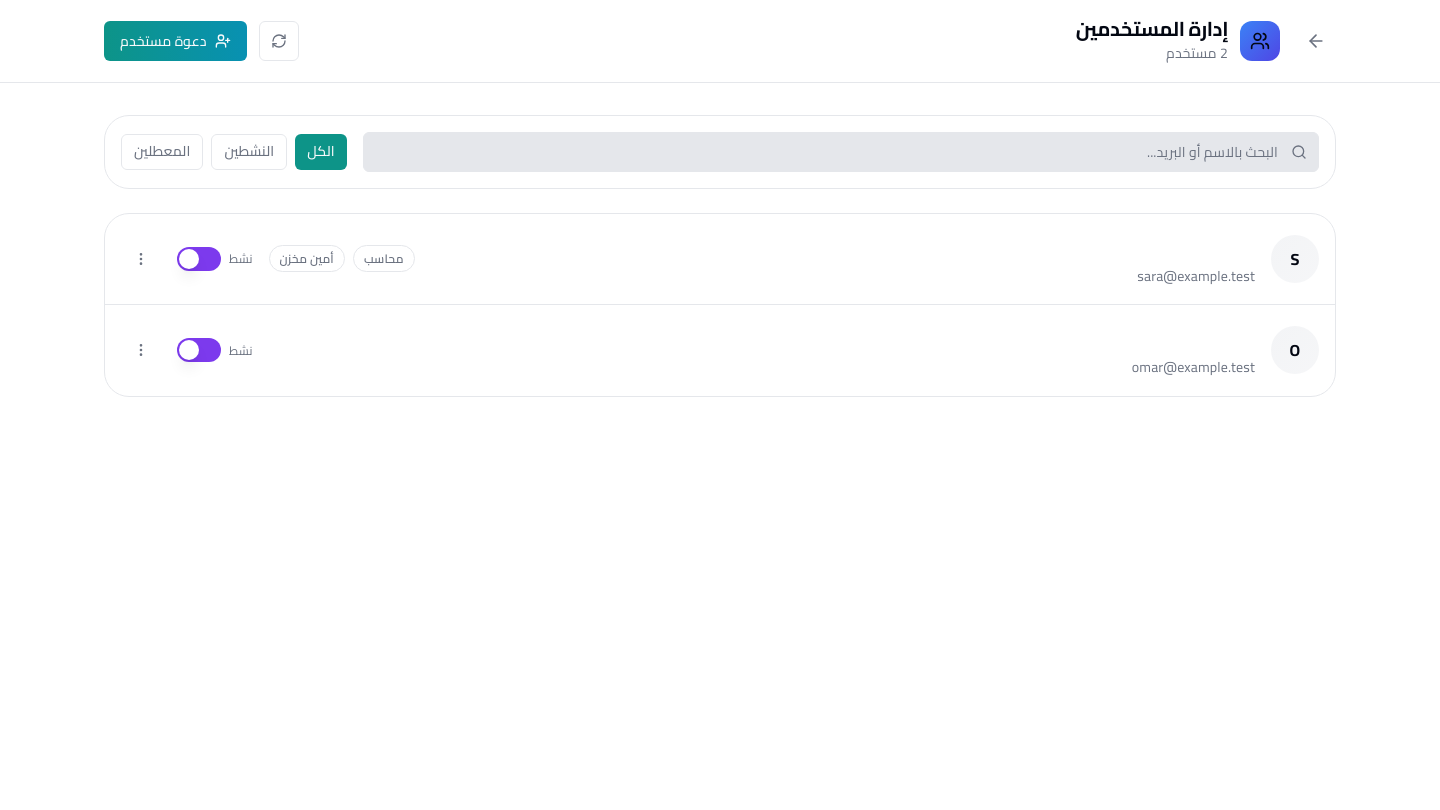
Test case: controls — successful reads keep full-set replacement semantics › keeps assignments across two saves when the role catalogue read fails
Click the button named "إجراءات المستخدم" in the row of "أمين مخزن": point(141, 259) [121,239,161,279]
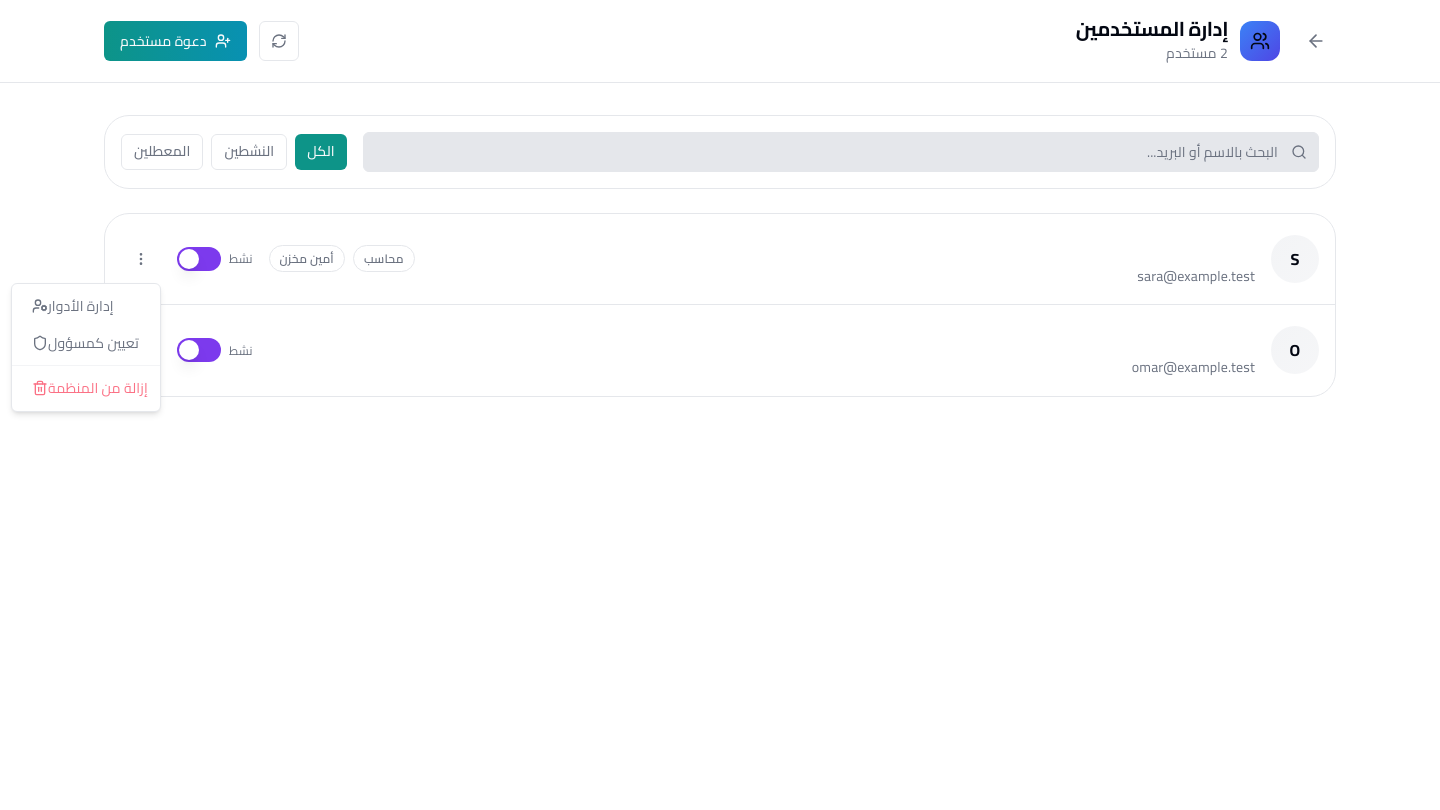
Click the menu item "إدارة الأدوار": point(73, 306) [32,293,114,319]
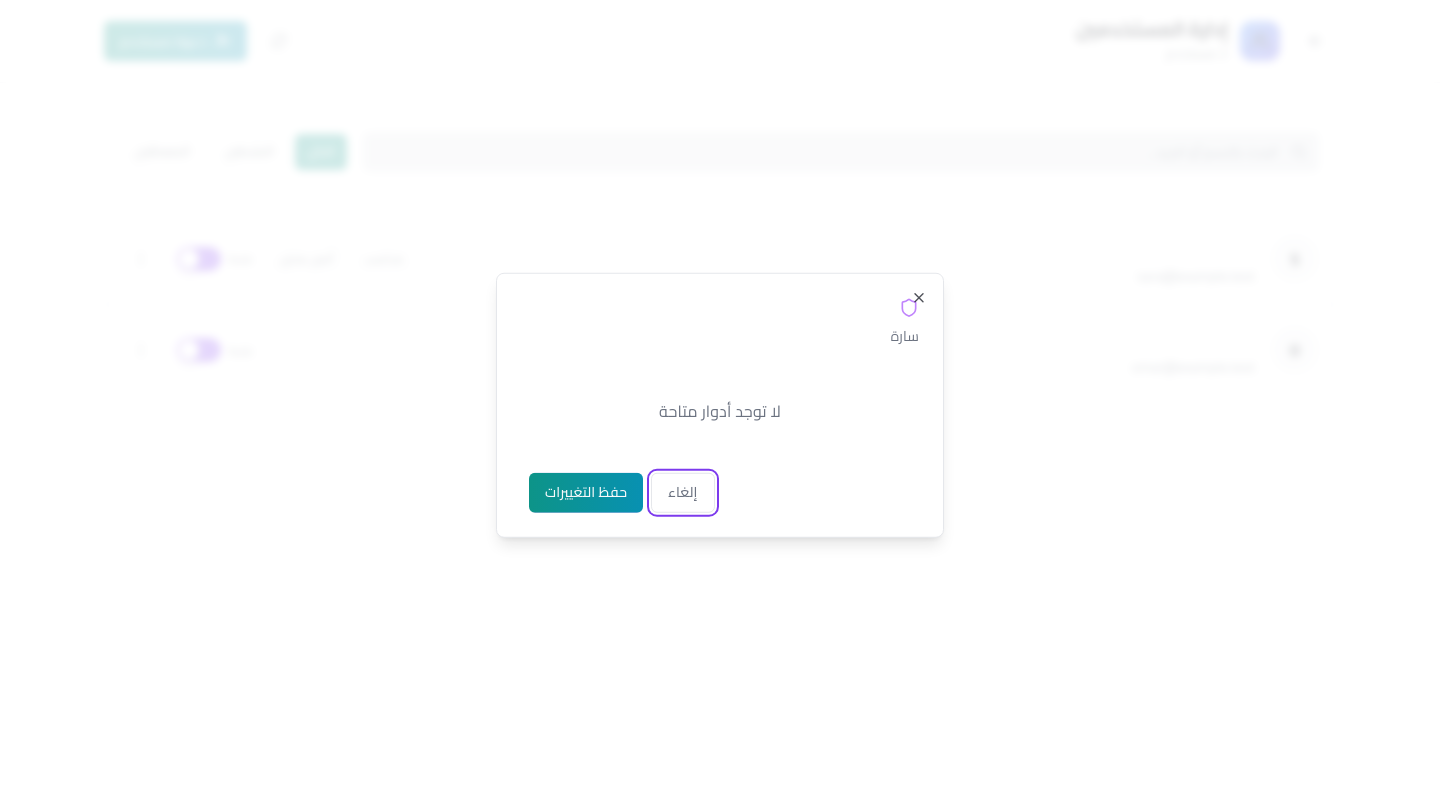
Check: the dialog "إدارة أدوار المستخدم" is shown, box [496,273,944,537]
Click the button "حفظ التغييرات": point(586, 492) [529,472,643,512]
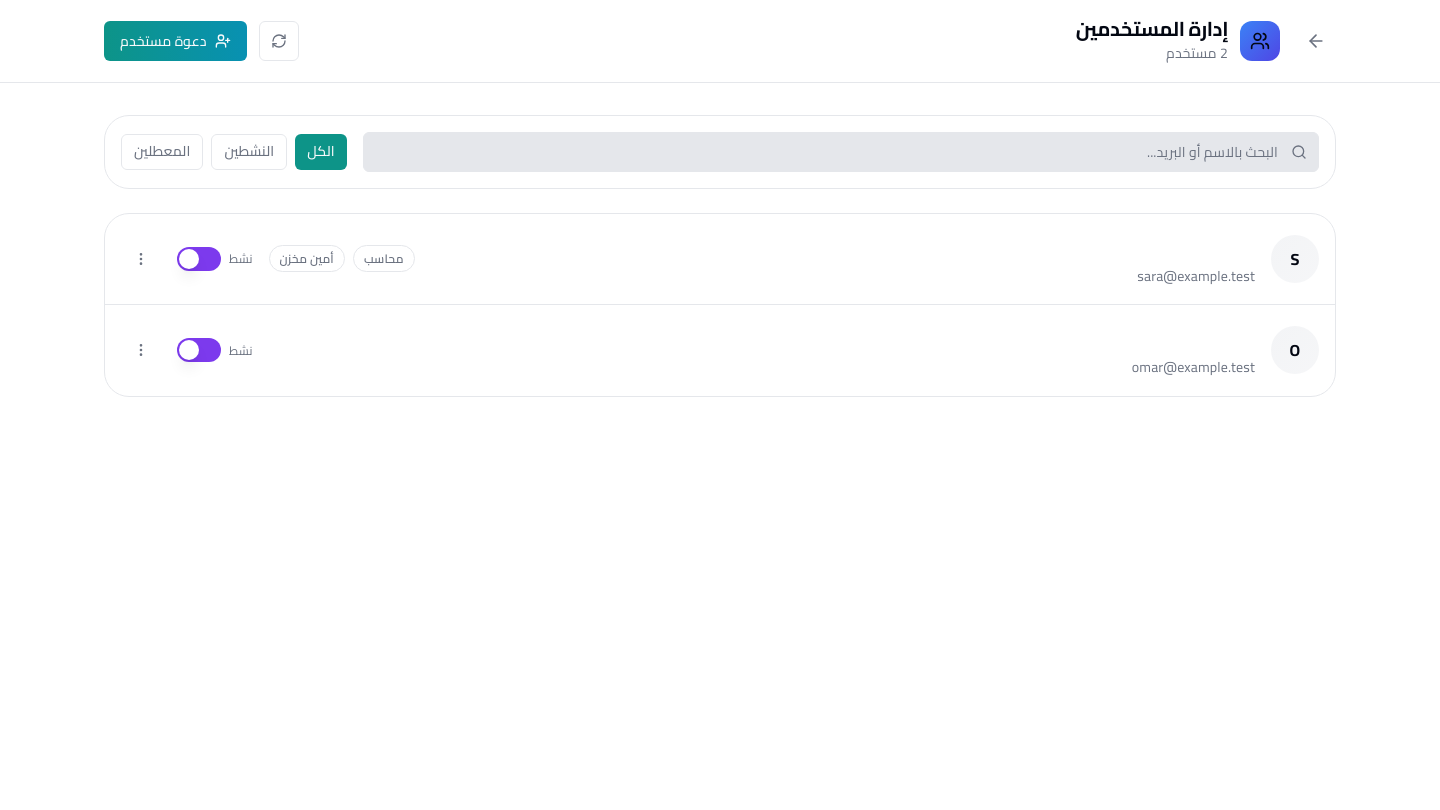
Check: the heading "إدارة أدوار المستخدم" is gone
Click the button named "إجراءات المستخدم" in the row of "أمين مخزن": point(141, 259) [121,239,161,279]
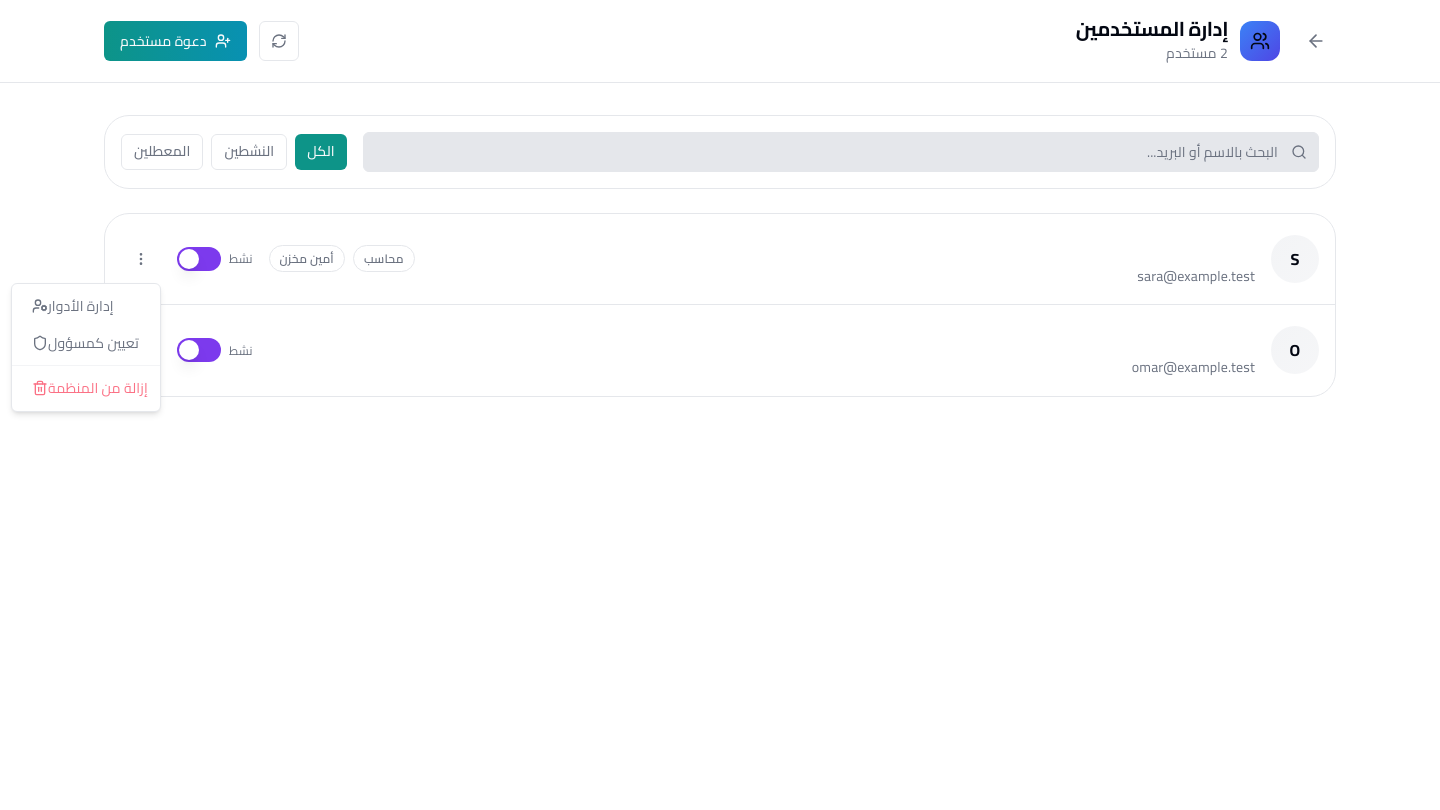
Click the menu item "إدارة الأدوار": point(73, 306) [32,293,114,319]
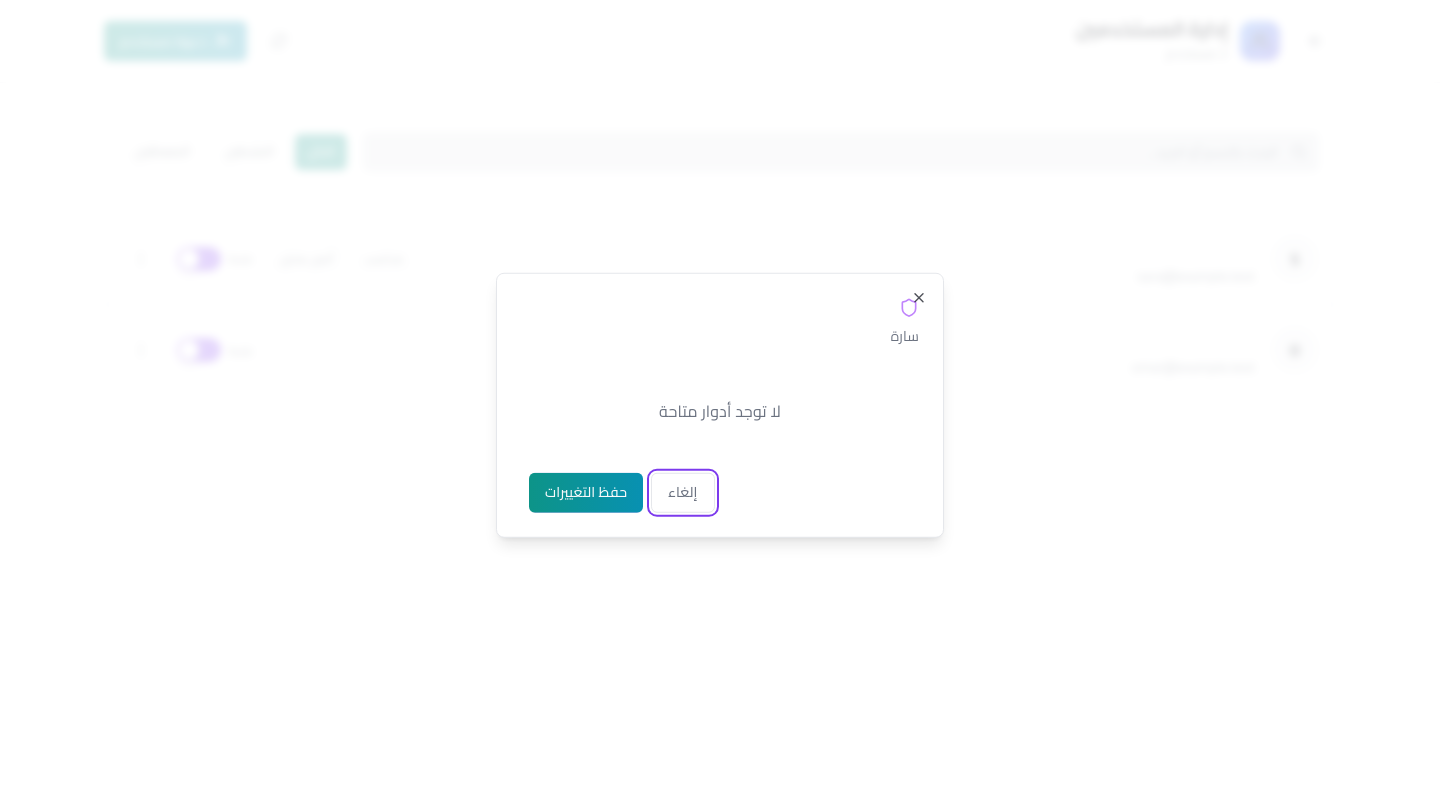
Check: the dialog "إدارة أدوار المستخدم" is shown, box [496,273,944,537]
Click the button "حفظ التغييرات": point(586, 492) [529,472,643,512]
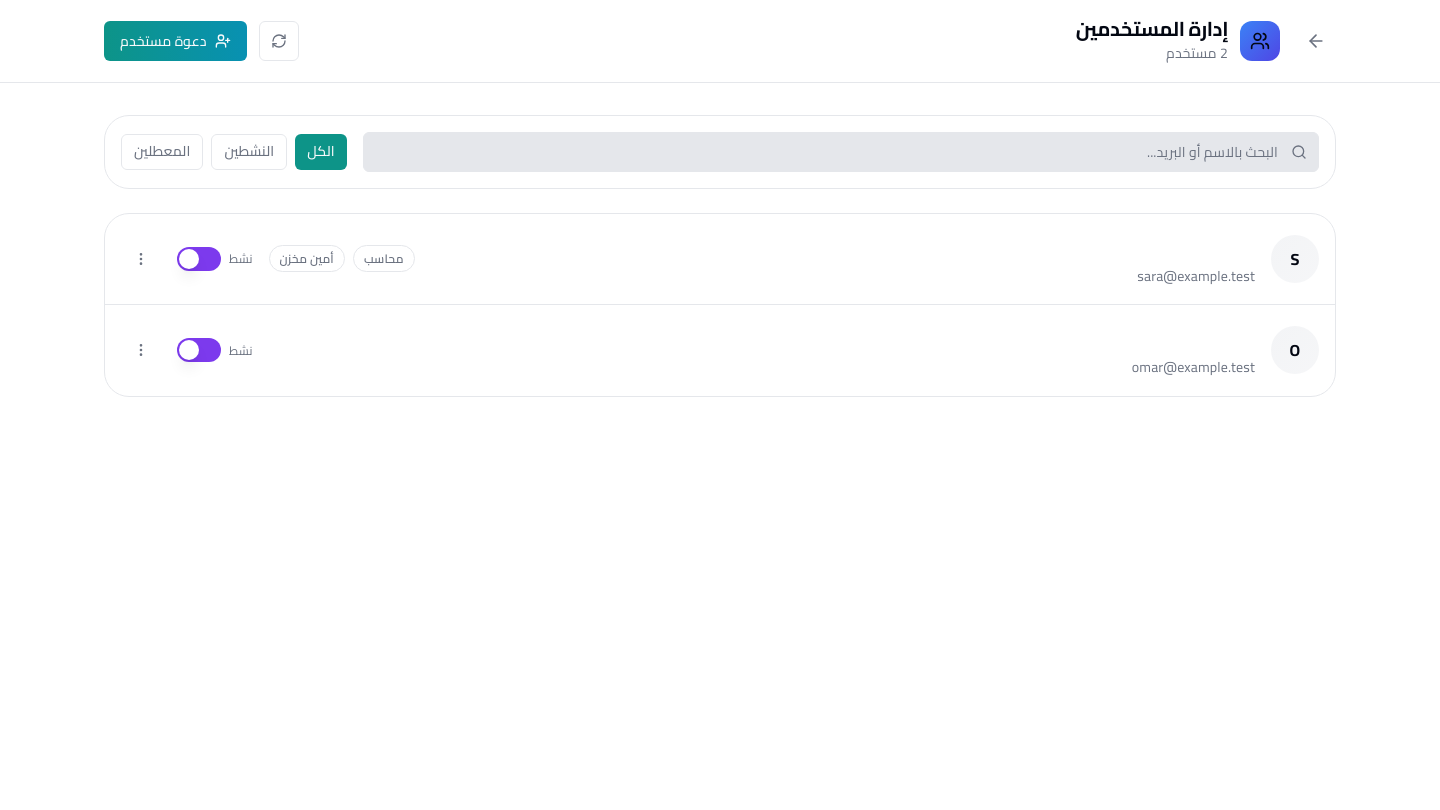
Check: the heading "إدارة أدوار المستخدم" is gone
